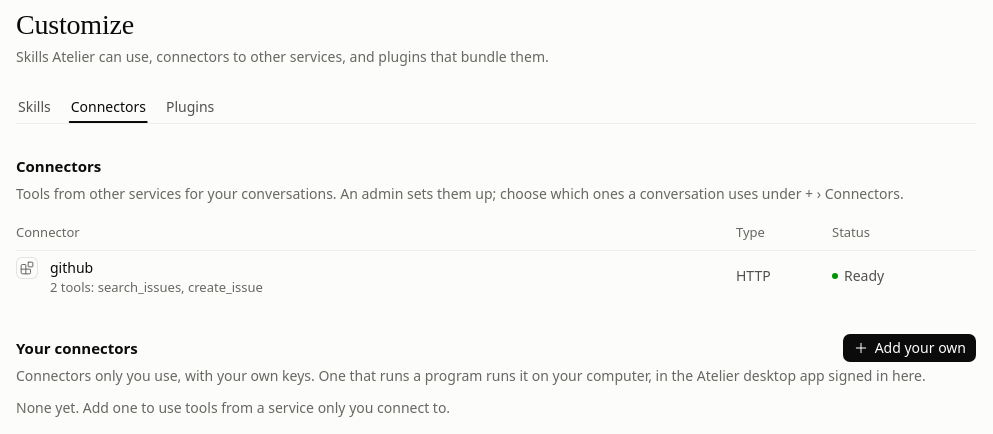
CustomizePage › shows connectors and plugins read-only to people who aren’t admins
The image size is (993, 434).
Check: the text "github" shows "2 tools: search_issues, create_issue", box [16,250,976,302]
Check: the text "github" shows "Ready", box [844,266,884,285]
Click the tab "Plugins" at coordinates (190, 107), box [164,91,216,123]
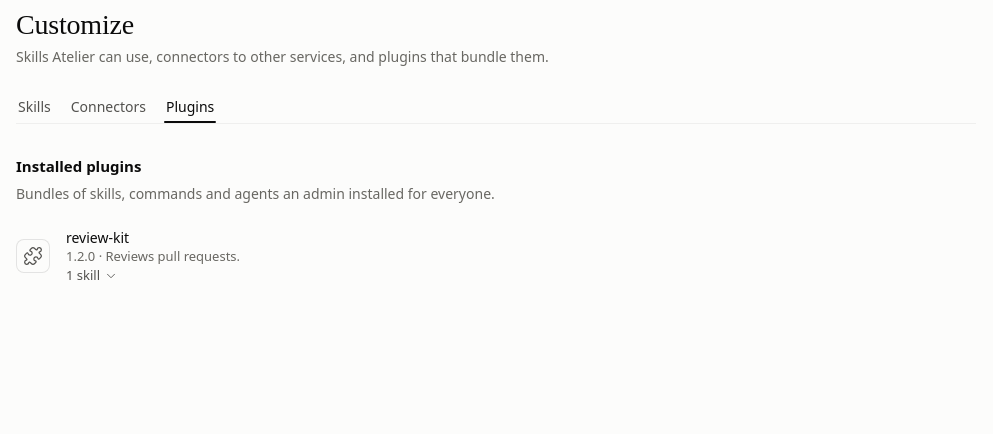
Check: the text "review-kit" is shown, box [66,228,129,248]
